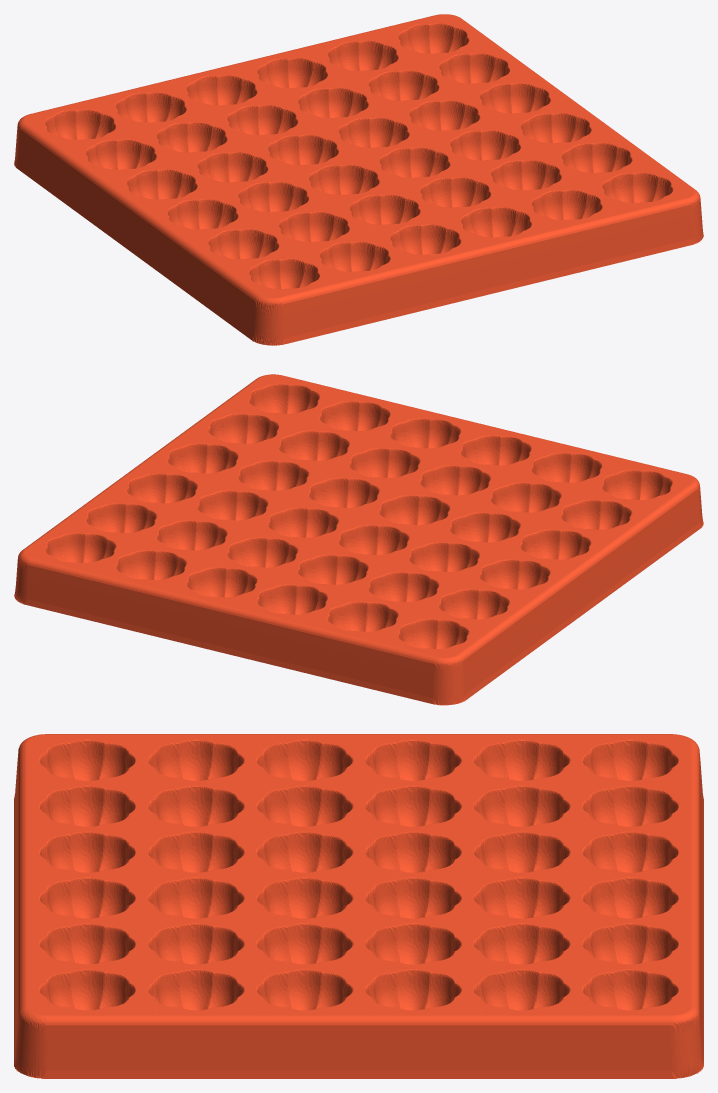
File: mold.glb
3 renders of one model, top to bottom at view 1: azimuth 30°, elevation 25°; view 2: azimuth 150°, elevation 25°; view 3: azimuth 270°, elevation 25°, orthographic. The views are drawn at different scales.
Visible parts, largest first — view 1: geometry_0; view 2: geometry_0; view 3: geometry_0.
Boxes of the visible parts, x1=… form: geometry_0: x1=14, y1=14, x2=703, y2=345; geometry_0: x1=14, y1=374, x2=703, y2=705; geometry_0: x1=14, y1=734, x2=703, y2=1078.
Size of the model in its own units: 0.1877 by 0.0174 by 0.1877.
